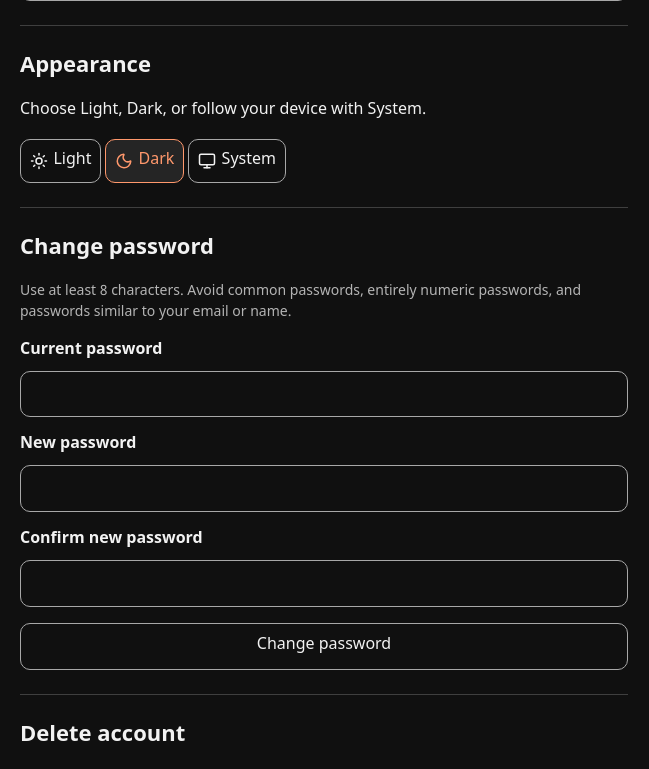
Test case: account routing and forms › shows allauth field errors and clears password fields on success
(page scrolled)
In the password field labelled "Current password": (324, 394) 20,370 -> 628,417, type "Example-QA-804!"
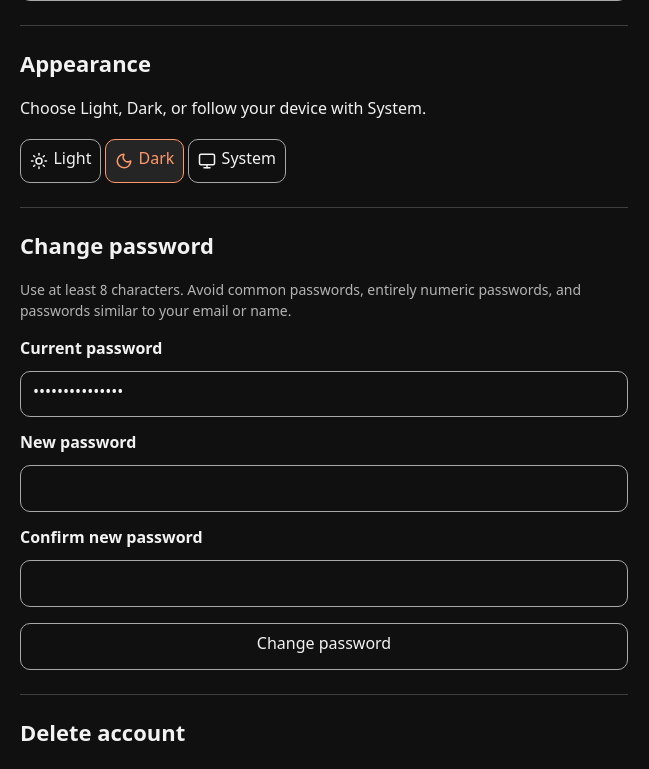
In the password field labelled "New password": (324, 489) 20,465 -> 628,512, type "Example-QA-804!"
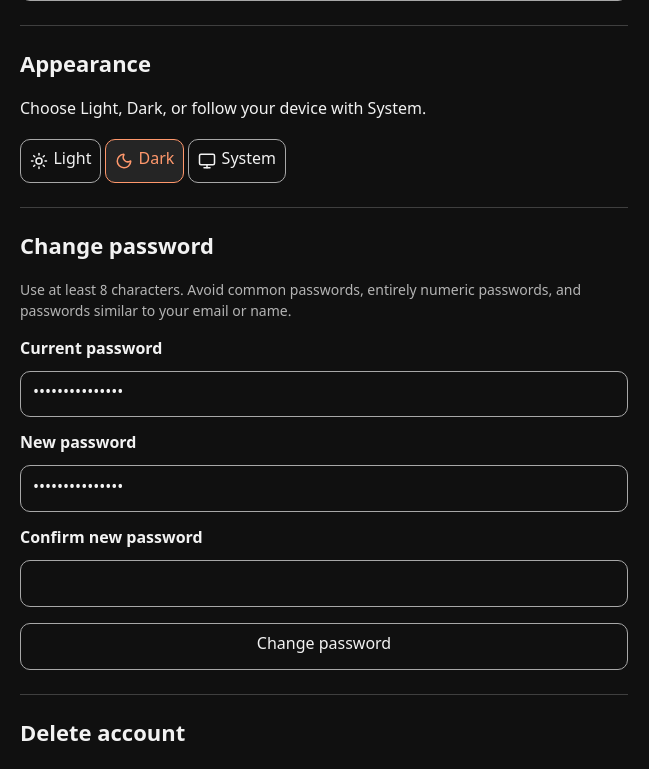
In the password field labelled "Confirm new password": (324, 584) 20,560 -> 628,607, type "Example-QA-804!"
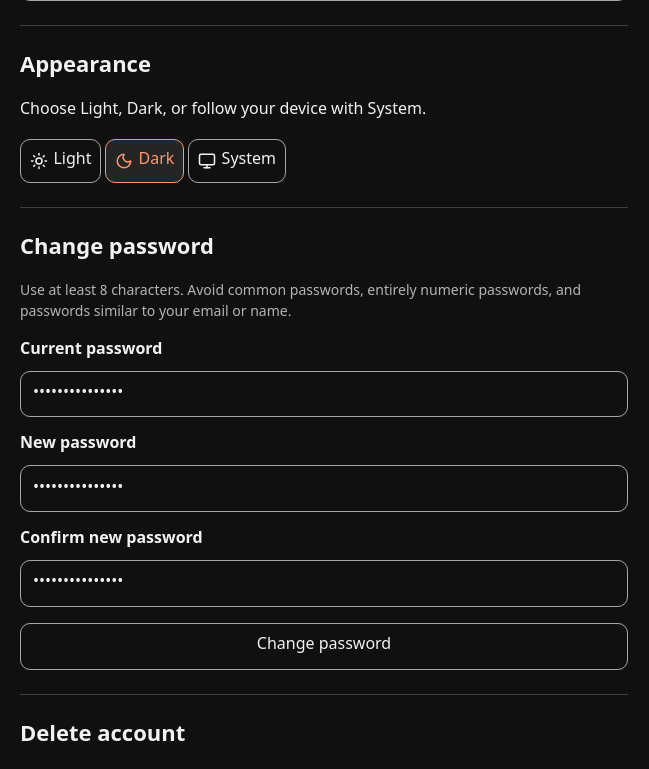
Click the button "Change password": click(324, 646) 20,623 -> 628,670
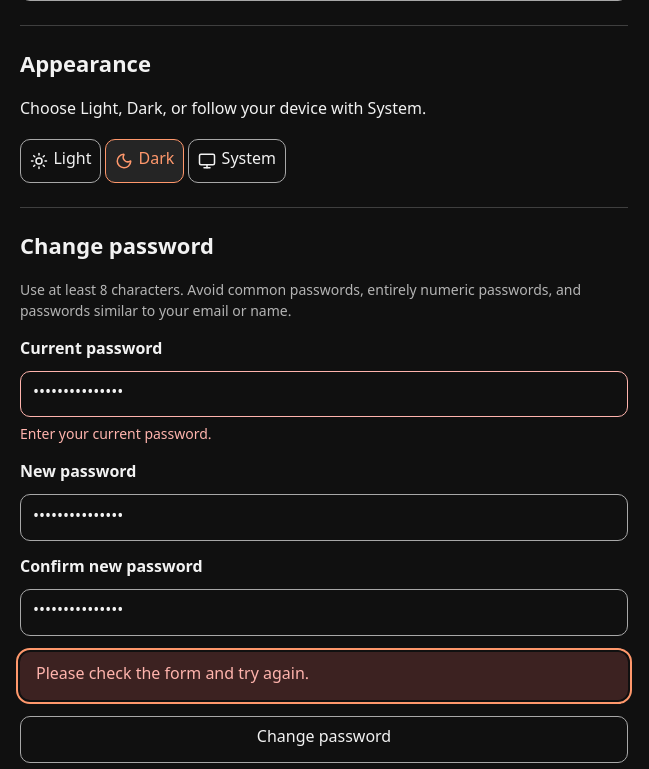
Expected: the text "Enter your current password." is shown, 20,426 -> 212,445
Click the button "Change password": click(324, 739) 20,716 -> 628,763
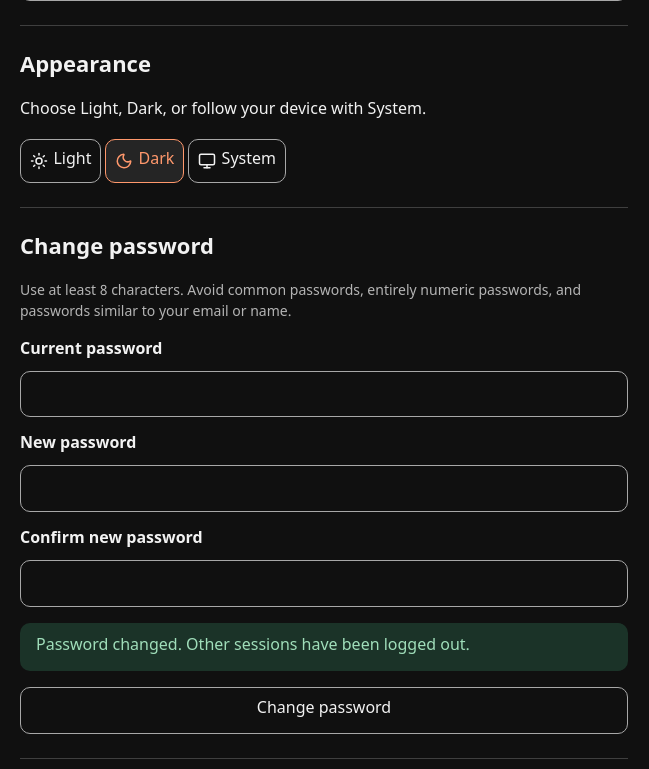
Expected: the text "Password changed. Other sessions have been logged out." is shown, 20,623 -> 628,671
Expected: the password field labelled "Current password" is empty, 20,370 -> 628,417
